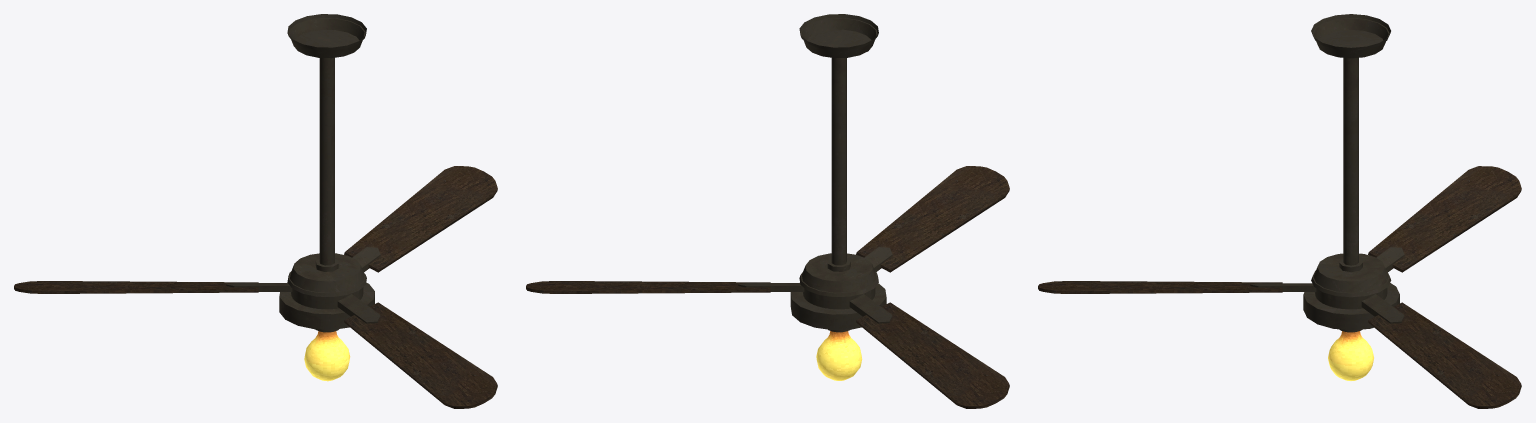
File: ceiling_fan_mp_1_1_light_on.glb
3 renders of one model, left to right at view 1: azimuth 30°, elevation 25°; view 2: azimuth 150°, elevation 25°; view 3: azimuth 270°, elevation 25°, orthographic.
Parts seen in each view (by area): view 1: ceiling_fan_mp_1_1_light_on_blades, ceiling_fan_mp_1_1_light_on; view 2: ceiling_fan_mp_1_1_light_on_blades, ceiling_fan_mp_1_1_light_on; view 3: ceiling_fan_mp_1_1_light_on_blades, ceiling_fan_mp_1_1_light_on.
Boxes of the visible parts, x1,y1,x2,y2 form: ceiling_fan_mp_1_1_light_on_blades: (14, 166, 497, 408); ceiling_fan_mp_1_1_light_on: (279, 14, 374, 381); ceiling_fan_mp_1_1_light_on_blades: (526, 166, 1009, 408); ceiling_fan_mp_1_1_light_on: (790, 14, 886, 380); ceiling_fan_mp_1_1_light_on_blades: (1038, 166, 1521, 408); ceiling_fan_mp_1_1_light_on: (1303, 14, 1399, 380).
Size of the model in its own units: 1.02 by 0.7128 by 0.8979.
Materials: 3 (3 with a texture image).
